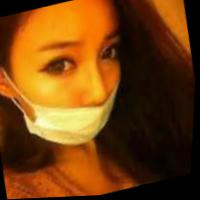WRONG: (12, 16, 146, 157)
